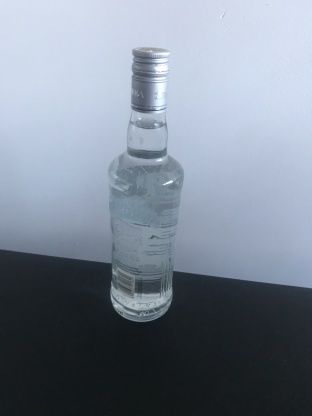nakretka: (129, 44, 171, 116)
